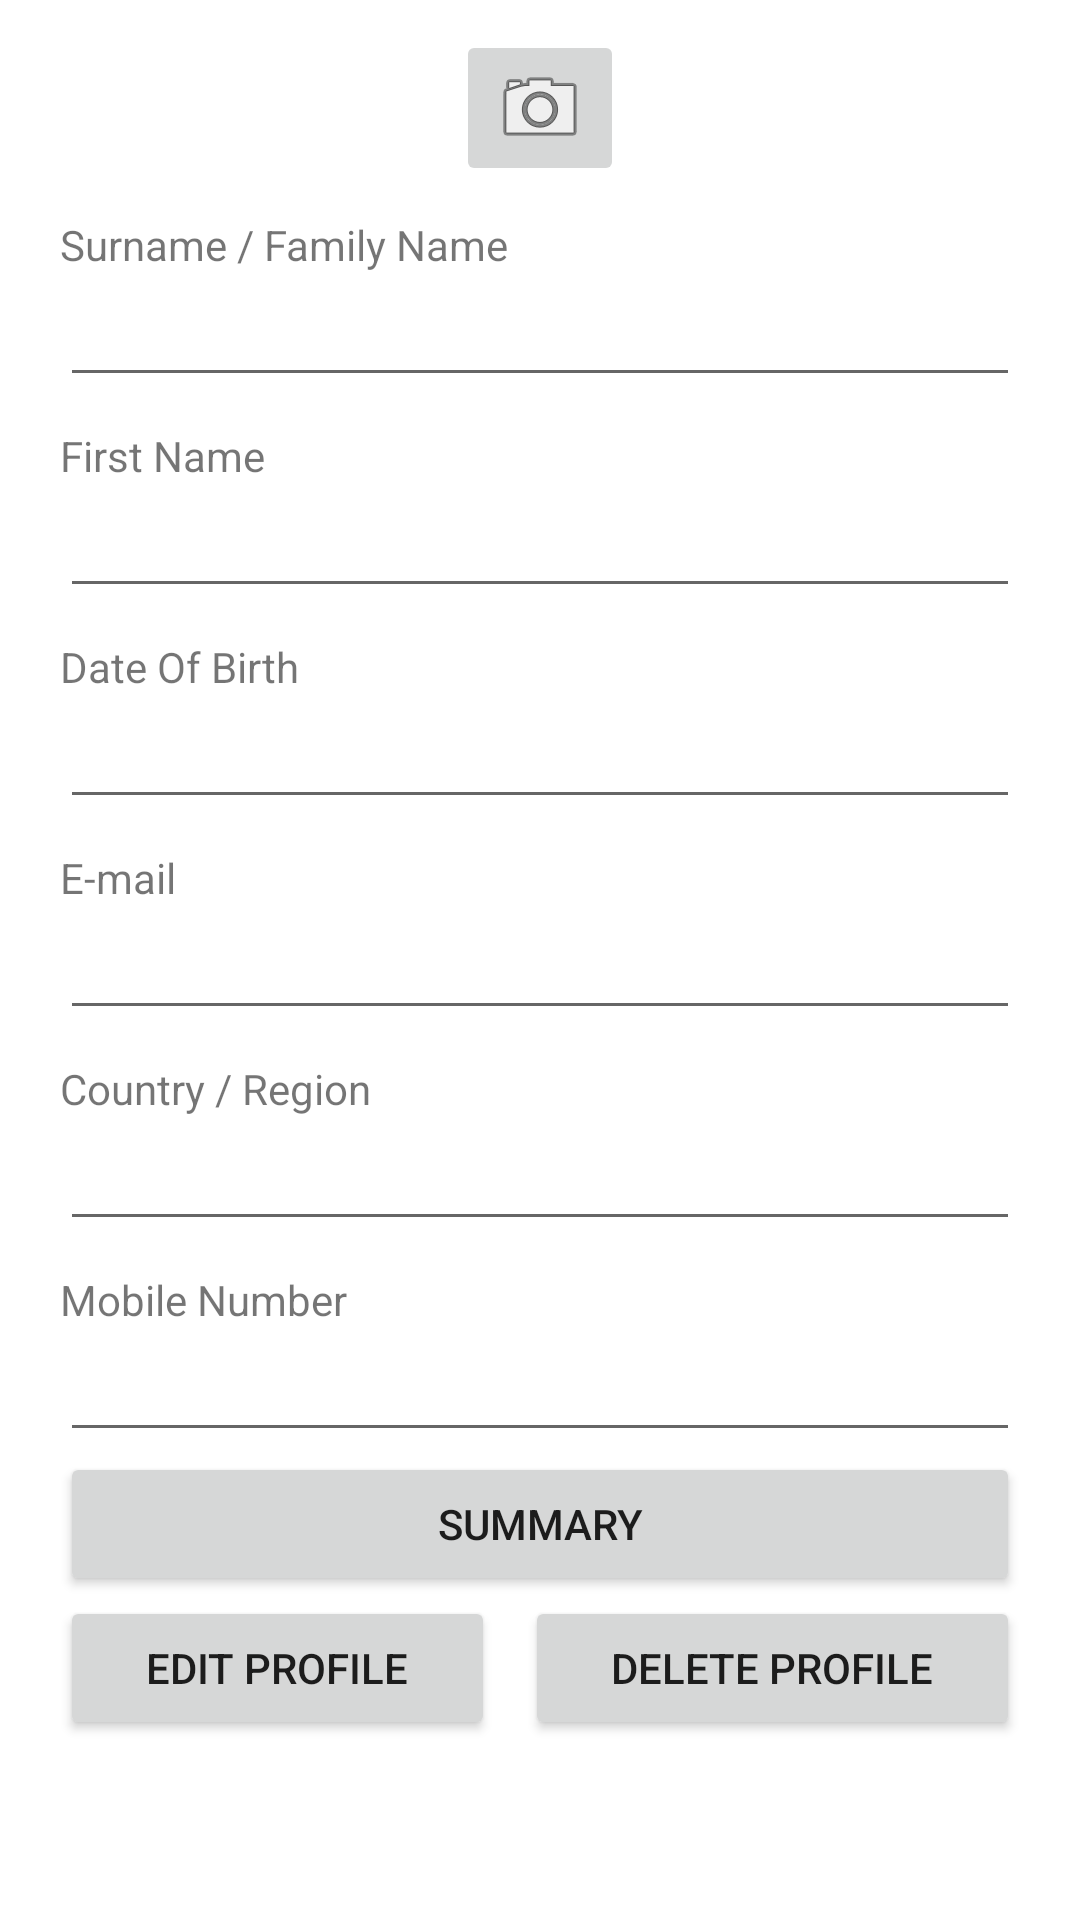

Named icons in this screenshot (1080 x 1920) and their bounding boxes, (x1, y1, x2, y2):
camera: (468, 48, 612, 168)
